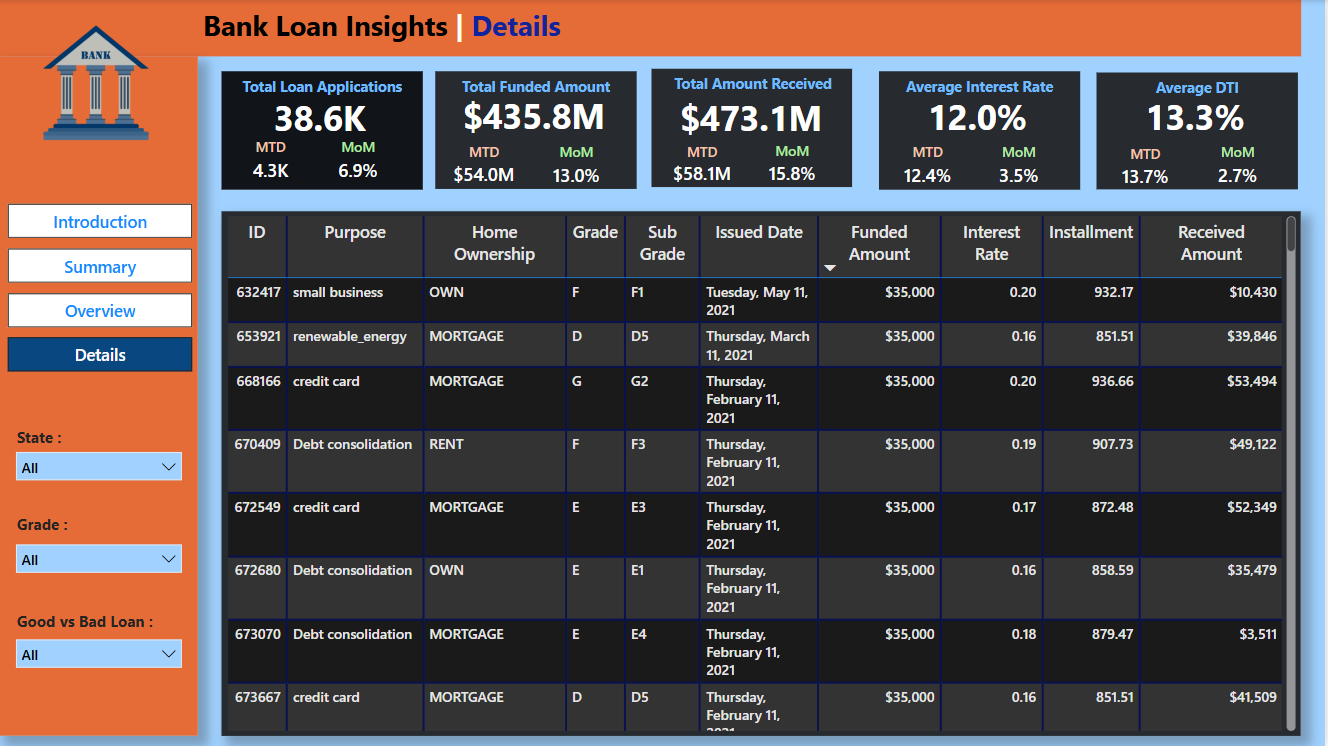

Layout of this report page (visuals, bound fields, positions):
{"tool":"powerbi","page":{"name":"Details","canvas":[1280,720],"ordinal":3},"visuals":[{"type":"shape","box":[629.2,66.4,193.8,114.2],"z":0,"group":"g3"},{"type":"shape","box":[214.3,68.6,194.3,114.3],"z":0,"group":"g1"},{"type":"shape","box":[421.4,68.6,194.5,114],"z":0,"group":"g2"},{"type":"shape","box":[848.8,68.6,194.2,114.3],"z":0,"group":"g4"},{"type":"shape","box":[1059.3,69.8,194.5,113.1],"z":0,"group":"g5"},{"type":"shape","box":[214.7,203.7,1041.9,506.5],"z":0},{"type":"shape","box":[0,0,1257,54.7],"z":1000},{"type":"card","fields":{"Values":["table_measures.total_loan_appl"]},"box":[247.2,83.2,124.3,61.3],"z":1000,"group":"g1"},{"type":"card","fields":{"Values":["table_measures.total_funded_amt"]},"box":[433.2,83.2,165.9,58.4],"z":1000,"group":"g2"},{"type":"card","fields":{"Values":["table_measures.avg_interest_rate"]},"box":[860.6,83.2,165.6,58.6],"z":1000,"group":"g4"},{"type":"card","fields":{"Values":["table_measures.avg_DTI"]},"box":[1071.1,84.3,165.9,57.9],"z":1000,"group":"g5"},{"type":"card","fields":{"Values":["table_measures.total_received_amt"]},"box":[643.2,85.3,163.1,55.8],"z":1000,"group":"g3"},{"type":"shape","box":[0,54.7,191.9,655.8],"z":2000},{"type":"textbox","box":[632.2,67,191,41.6],"z":2000,"group":"g3"},{"type":"textbox","box":[214.3,68.6,194.3,39],"z":2000,"group":"g1"},{"type":"textbox","box":[421.4,68.6,194.5,38.9],"z":2000,"group":"g2"},{"type":"textbox","box":[848.8,68.6,194.2,39],"z":2000,"group":"g4"},{"type":"textbox","box":[1059.3,69.8,194.5,38.6],"z":2000,"group":"g5"},{"type":"card","title":"MTD","fields":{"Values":["table_measures.MTD_loan_appl"]},"box":[235.7,132.7,51.4,50.2],"z":3000,"group":"g1"},{"type":"card","title":"MTD","fields":{"Values":["table_measures.MTD_received_amt"]},"box":[643.2,137.1,68.9,46.5],"z":3000,"group":"g3"},{"type":"card","title":"MTD","fields":{"Values":["table_measures.MTD_funded_amt"]},"box":[433.2,137.4,70.1,48.6],"z":3000,"group":"g2"},{"type":"card","title":"MTD","fields":{"Values":["table_measures.MTD_interest_rate"]},"box":[860.6,137.6,70,48.8],"z":3000,"group":"g4"},{"type":"card","title":"MTD","fields":{"Values":["table_measures.MTD_avg_DTI"]},"box":[1071.1,138.1,70.1,48.3],"z":3000,"group":"g5"},{"type":"textbox","box":[12.4,406,119.7,38.5],"z":3000},{"type":"textbox","box":[191.8,1.2,447.6,49.5],"z":4000},{"type":"card","title":"MoM","fields":{"Values":["table_measures.MOM_loan_appl"]},"box":[320,132.7,51.4,50.2],"z":4000,"group":"g1"},{"type":"card","title":"MoM","fields":{"Values":["table_measures.MOM_received_amt"]},"box":[736.7,136.9,56.8,47.5],"z":4000,"group":"g3"},{"type":"card","title":"MoM","fields":{"Values":["table_measures.MOM_funded_amt"]},"box":[528.3,137.2,57.8,49.7],"z":4000,"group":"g2"},{"type":"card","title":"MoM","fields":{"Values":["table_measures.MOM_interest_rate"]},"box":[955.6,137.4,57.7,49.8],"z":4000,"group":"g4"},{"type":"card","title":"MoM","fields":{"Values":["table_measures.MOM_avg_DTI"]},"box":[1166.2,137.9,57.8,49.3],"z":4000,"group":"g5"},{"type":"group","id":"g1","title":"Group 1","box":[214.3,68.6,194.3,114.3],"z":5000},{"type":"group","id":"g2","title":"Group 1","box":[421.4,68.6,194.3,118],"z":6000},{"type":"group","id":"g3","title":"Group 1","box":[629.2,66.4,194,118],"z":7000},{"type":"group","id":"g4","title":"Group 1","box":[848.8,68.6,194.2,118.6],"z":8000},{"type":"group","id":"g5","title":"Group 1","box":[1059.3,69.8,194.2,117.4],"z":9000},{"type":"slicer","fields":{"Values":["financial_loan.address_state"]},"box":[5.5,425.3,180.3,50.9],"z":10000},{"type":"slicer","fields":{"Values":["financial_loan.grade"]},"box":[5.5,514.8,180.3,50.9],"z":11000},{"type":"textbox","box":[12.4,491.4,119.7,38.5],"z":12000},{"type":"slicer","fields":{"Values":["financial_loan.Good vs Band Loan"]},"box":[5.5,607,180.3,50.9],"z":13000},{"type":"textbox","box":[12.4,583.6,163.8,38.5],"z":14000},{"type":"tableEx","fields":{"Values":["financial_loan.id","financial_loan.purpose","financial_loan.home_ownership","financial_loan.grade","financial_loan.sub_grade","financial_loan.issue_date","table_measures.total_funded_amt","Sum(financial_loan.int_rate)","Sum(financial_loan.installment)","table_measures.total_received_amt"]},"box":[214.7,203.7,1041.9,506.5],"z":15000},{"type":"pageNavigator","box":[8.3,196.8,178.9,163.8],"z":16000},{"type":"image","box":[0,1.4,187.2,156.9],"z":17000}]}

Visuals, with their boxes in screenshot pixels (x1, y1, x2, y2), scaled from the page's 1280x720 canvas onto the 1328x746 screenshot:
shape: left=653, top=69, right=854, bottom=187
shape: left=222, top=71, right=424, bottom=190
shape: left=437, top=71, right=639, bottom=189
shape: left=881, top=71, right=1082, bottom=190
shape: left=1099, top=72, right=1301, bottom=190
shape: left=223, top=211, right=1304, bottom=736
shape: left=0, top=0, right=1304, bottom=57
card - table_measures.total_loan_appl: left=256, top=86, right=385, bottom=150
card - table_measures.total_funded_amt: left=449, top=86, right=622, bottom=147
card - table_measures.avg_interest_rate: left=893, top=86, right=1065, bottom=147
card - table_measures.avg_DTI: left=1111, top=87, right=1283, bottom=147
card - table_measures.total_received_amt: left=667, top=88, right=837, bottom=146
shape: left=0, top=57, right=199, bottom=736
textbox: left=656, top=69, right=854, bottom=113
textbox: left=222, top=71, right=424, bottom=111
textbox: left=437, top=71, right=639, bottom=111
textbox: left=881, top=71, right=1082, bottom=111
textbox: left=1099, top=72, right=1301, bottom=112
"MTD" card: left=245, top=137, right=298, bottom=190
"MTD" card: left=667, top=142, right=739, bottom=190
"MTD" card: left=449, top=142, right=522, bottom=193
"MTD" card: left=893, top=143, right=965, bottom=193
"MTD" card: left=1111, top=143, right=1184, bottom=193
textbox: left=13, top=421, right=137, bottom=461
textbox: left=199, top=1, right=663, bottom=53
"MoM" card: left=332, top=137, right=385, bottom=190
"MoM" card: left=764, top=142, right=823, bottom=191
"MoM" card: left=548, top=142, right=608, bottom=194
"MoM" card: left=991, top=142, right=1051, bottom=194
"MoM" card: left=1210, top=143, right=1270, bottom=194
"Group 1" group: left=222, top=71, right=424, bottom=190
"Group 1" group: left=437, top=71, right=639, bottom=193
"Group 1" group: left=653, top=69, right=854, bottom=191
"Group 1" group: left=881, top=71, right=1082, bottom=194
"Group 1" group: left=1099, top=72, right=1301, bottom=194
slicer - financial_loan.address_state: left=6, top=441, right=193, bottom=493
slicer - financial_loan.grade: left=6, top=533, right=193, bottom=586
textbox: left=13, top=509, right=137, bottom=549
slicer - financial_loan.Good vs Band Loan: left=6, top=629, right=193, bottom=682
textbox: left=13, top=605, right=183, bottom=645
tableEx - financial_loan.id x financial_loan.purpose: left=223, top=211, right=1304, bottom=736
pageNavigator: left=9, top=204, right=194, bottom=374
image: left=0, top=1, right=194, bottom=164
